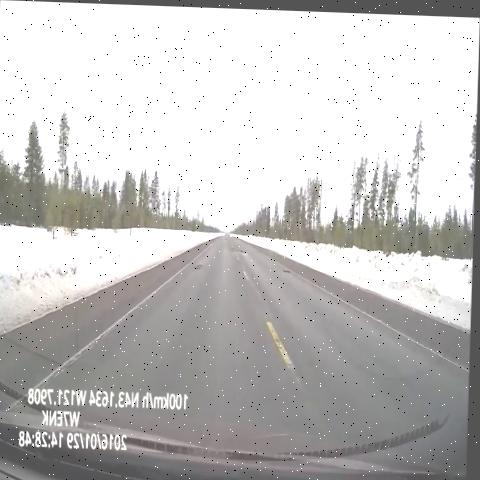pothole: (192, 255, 205, 274), (232, 243, 249, 257)
